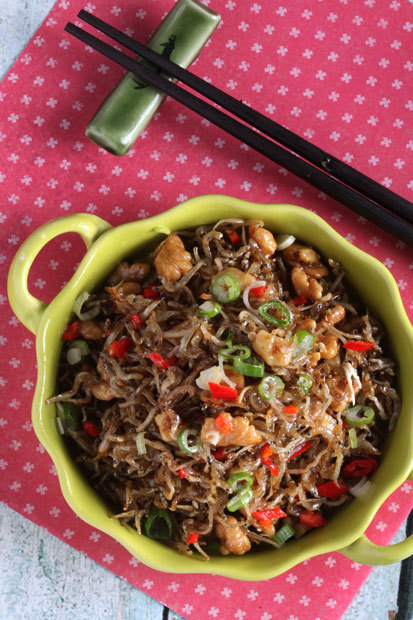myeolchibokk-eum: (43, 210, 412, 561)
